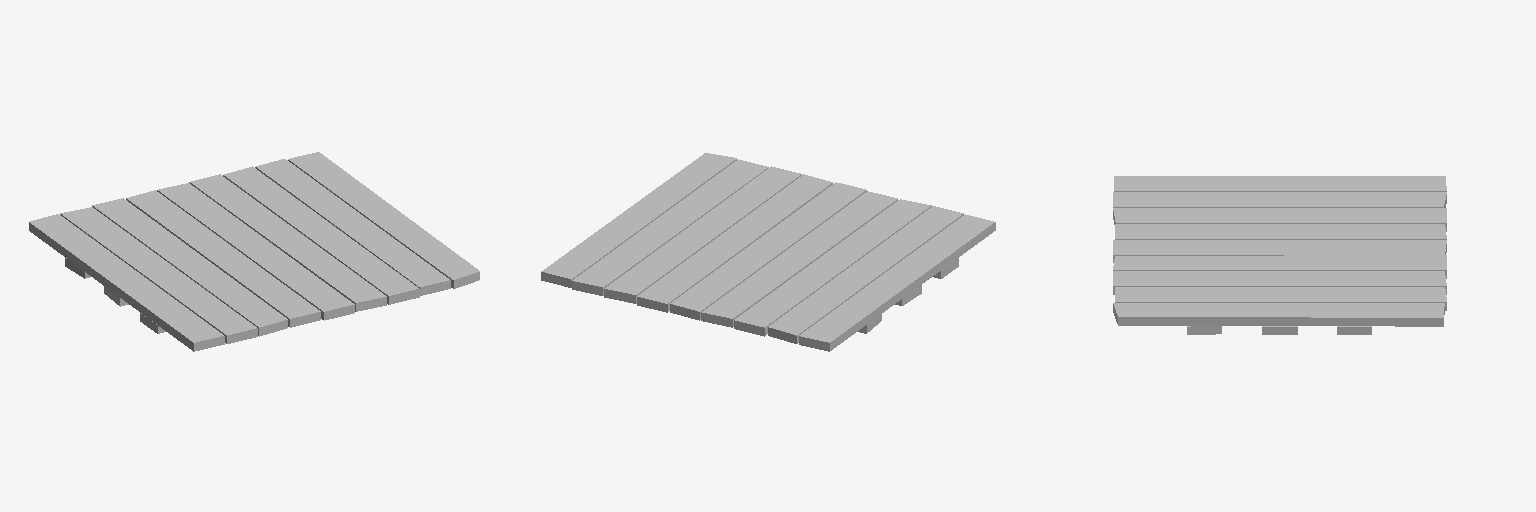
File: Platform.obj
3 views of the same model, side by side, from view 1: azimuth 30°, elevation 25°; view 2: azimuth 150°, elevation 25°; view 3: azimuth 270°, elevation 25° (orthographic).
Parts seen in each view (by area): view 1: Cube.017_Cube.031; view 2: Cube.017_Cube.031; view 3: Cube.017_Cube.031.
Part boxes in pixels (bbox=[...]): Cube.017_Cube.031: bbox=[29, 152, 479, 351]; Cube.017_Cube.031: bbox=[541, 153, 995, 351]; Cube.017_Cube.031: bbox=[1113, 176, 1446, 334].
Bounding box in the file's own units: 3.12 × 0.1839 × 3.12.